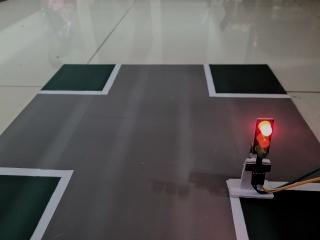red: (246, 111, 279, 176)
